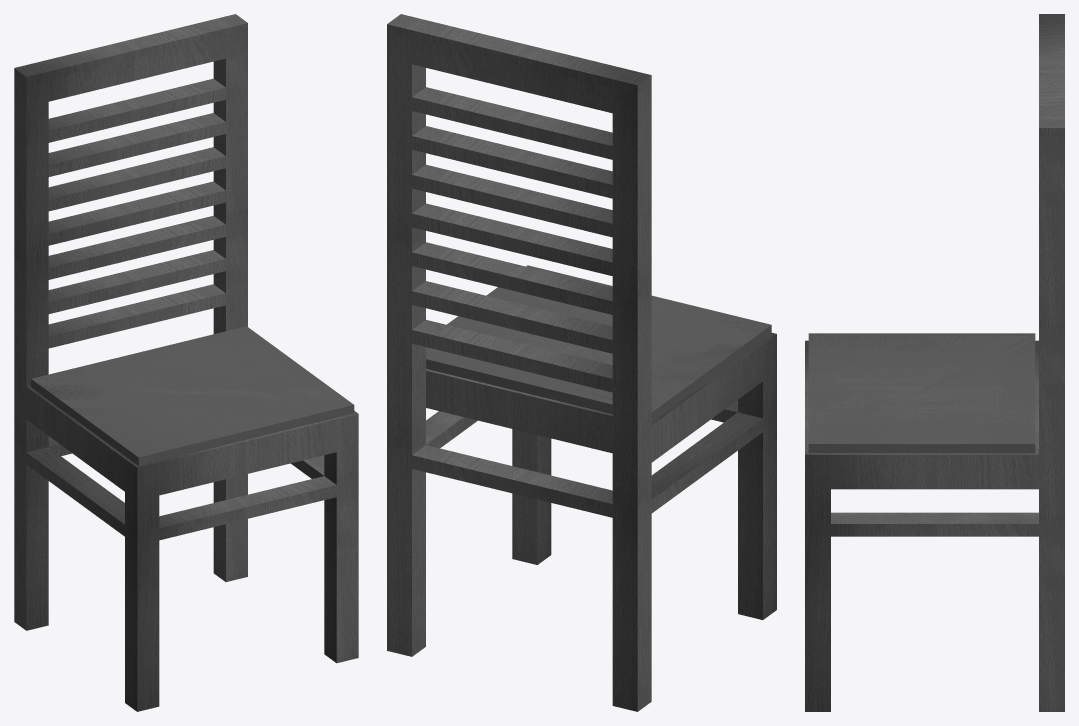
3 renders of one model, left to right at view 1: azimuth 30°, elevation 25°; view 2: azimuth 150°, elevation 25°; view 3: azimuth 270°, elevation 25°, orthographic. The views are drawn at different scales.
Parts seen in each view (by area): view 1: Component_1 (×2); view 2: Component_1 (×2); view 3: Component_1 (×2).
Boxes of the visible parts, x1,y1,x2,y2 form: Component_1 (×2): [14, 14, 358, 711]; Component_1 (×2): [387, 14, 776, 711]; Component_1 (×2): [805, 14, 1064, 711].
Size of the model in its own units: 3.99 by 3.85 by 9.54.
Materials: 2 (1 with a texture image).
